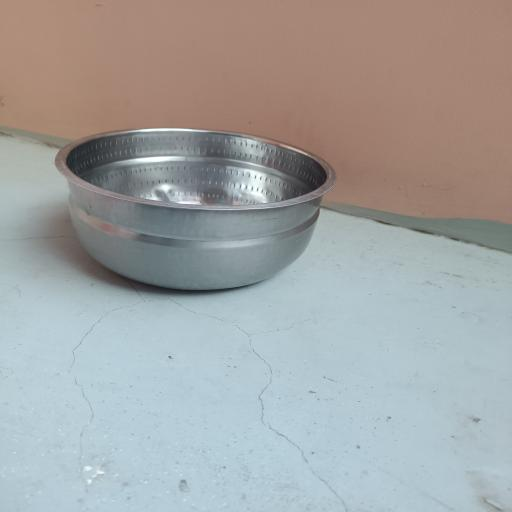vessel: (55, 128, 336, 290)
